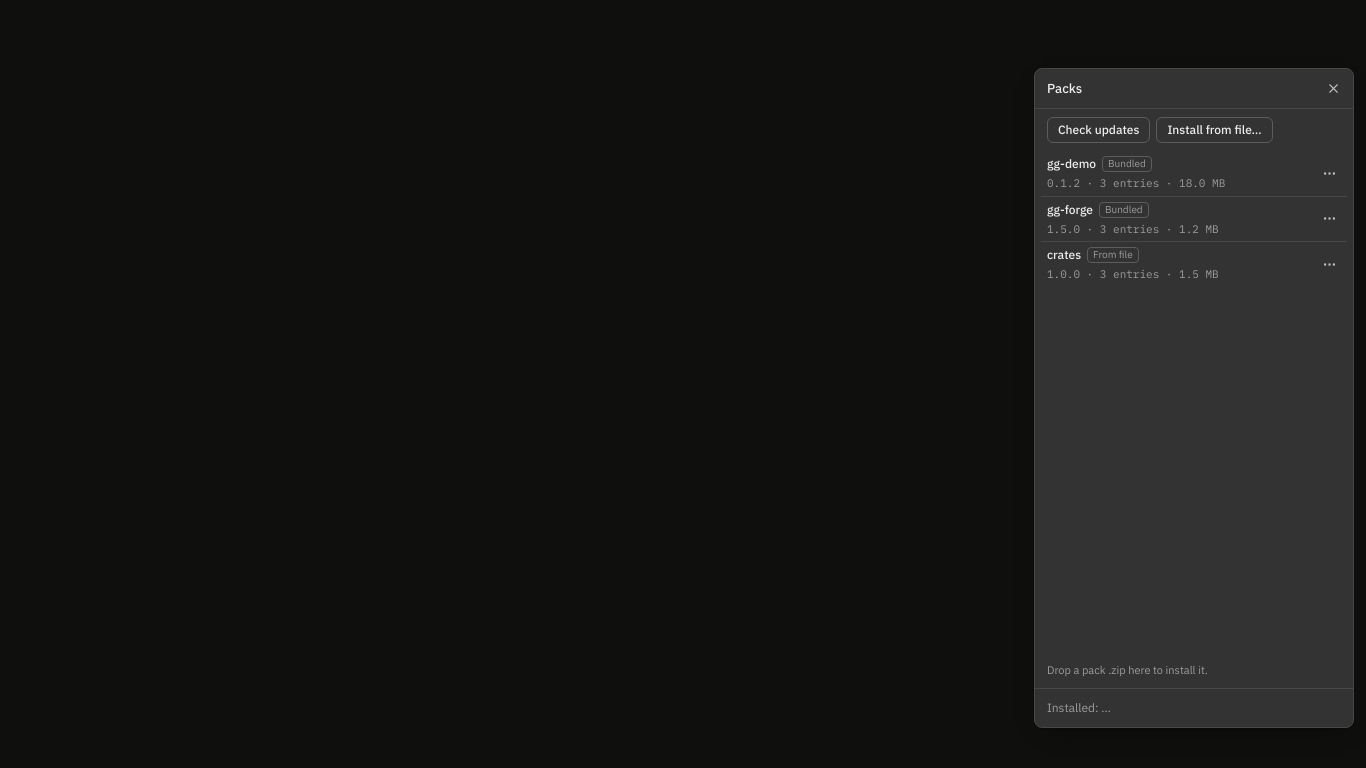
Test: PacksSheet › the confirm reads "1 prop … uses … It will" for one prop
The width and height of the screenshot is (1366, 768).
Step 1. Click the button named "crates options" → x=1329, y=264, box [1315,250,1343,278]
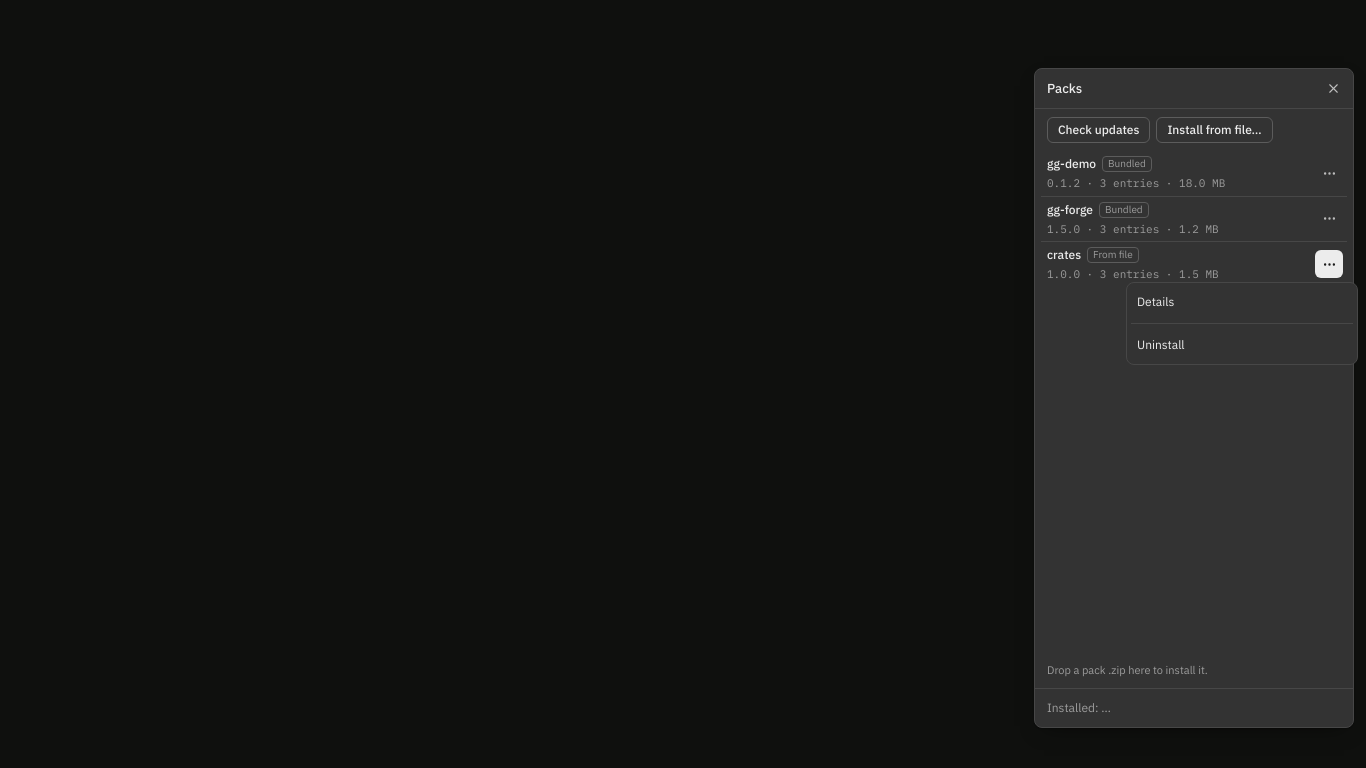
Step 2. Click the menu item "Uninstall" → x=1242, y=345, box [1131,330,1353,360]
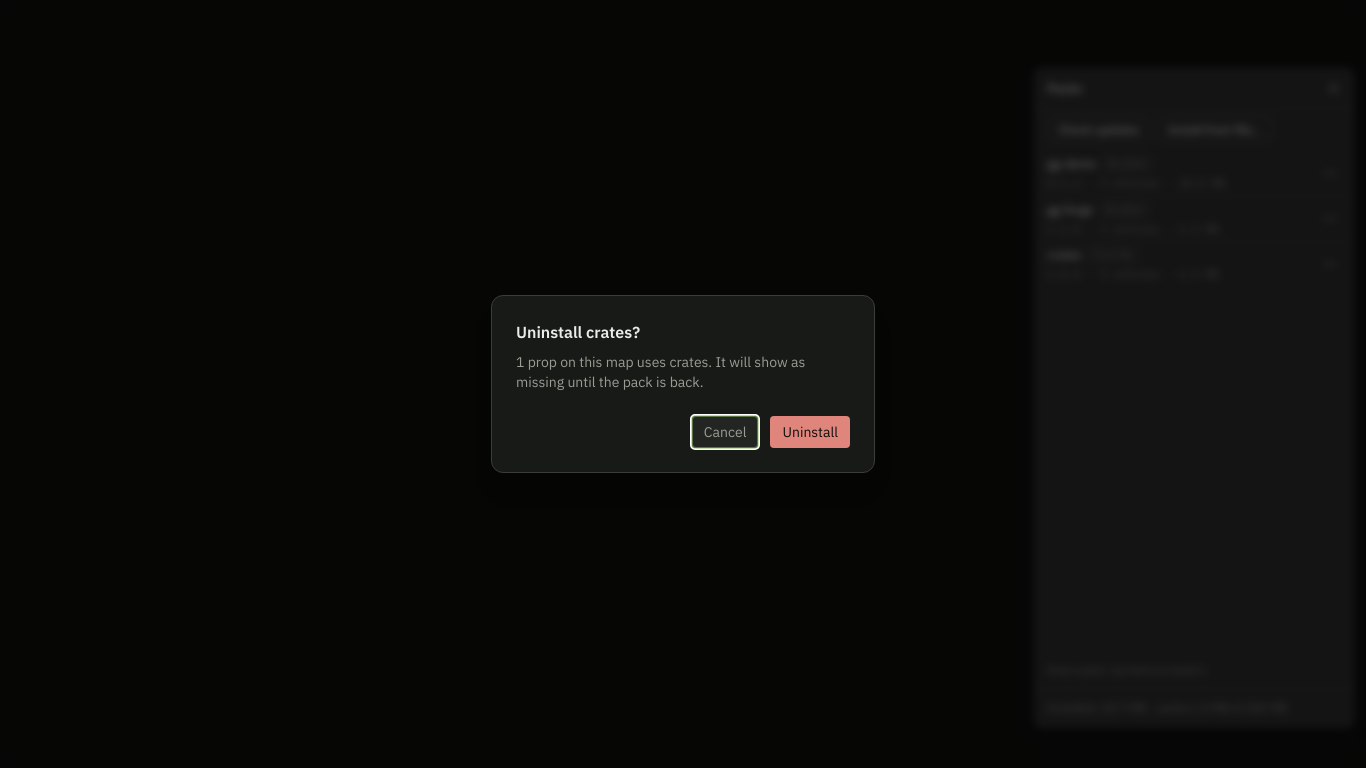
expect the dialog shows "1 prop on this map uses crates. It will show as missing until the pack is back.": met, box [516,353,805,391]
